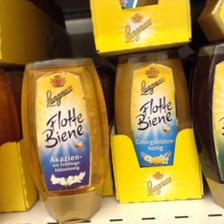Honig: (15, 58, 107, 222), (111, 52, 195, 176)
